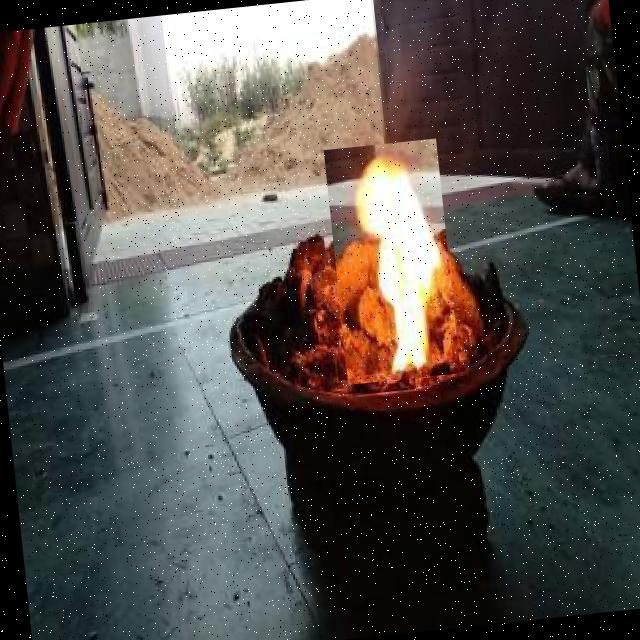fire: (323, 138, 460, 384)
